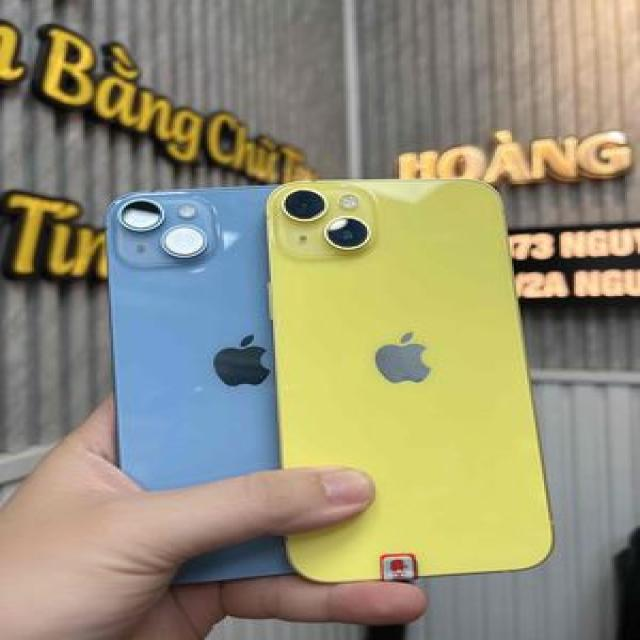gen_11: (266, 171, 560, 586)
